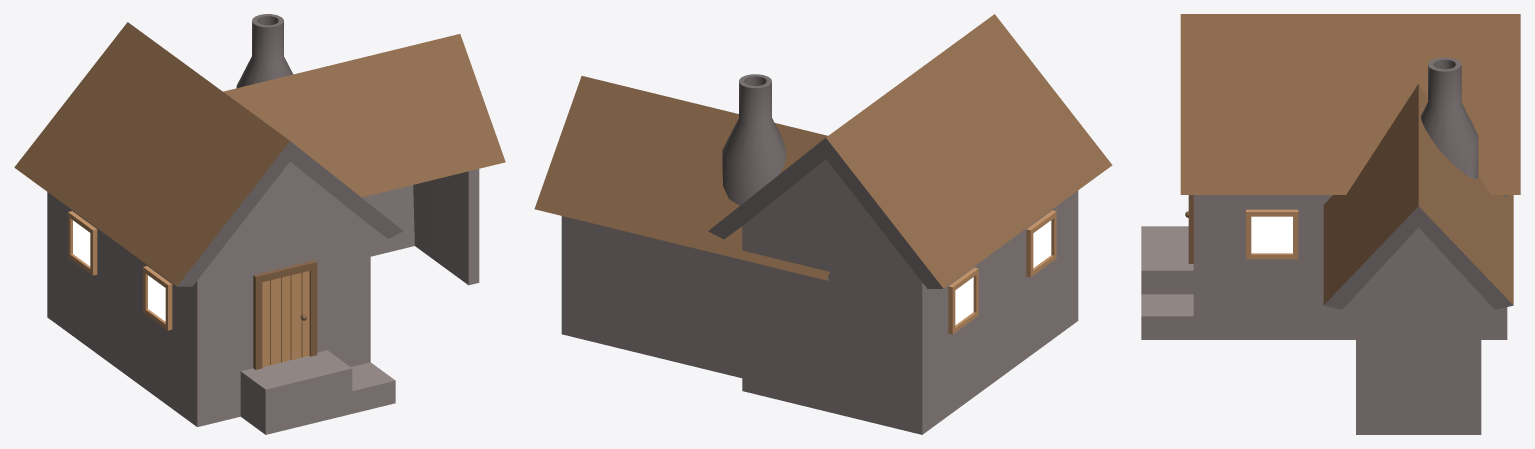
The model's file is SM_Blacksmith_01.fbx.
The picture shows the model from 3 angles, left to right: view 1: azimuth 30°, elevation 25°; view 2: azimuth 150°, elevation 25°; view 3: azimuth 270°, elevation 25°; orthographic projection. The views are drawn at different scales.
Parts seen in each view (by area): view 1: SM_Blacksmith_01, DoorFlat_01.003, Cylinder, WindowSmall_01.009, WindowSmall_01.010; view 2: SM_Blacksmith_01, Cylinder, WindowSmall_01.009, WindowSmall_01.010; view 3: SM_Blacksmith_01, Cylinder, WindowSmall_01.008, DoorFlat_01.003.
Boxes of the visible parts, bbox=[...] form: SM_Blacksmith_01: bbox=[14, 22, 505, 434]; DoorFlat_01.003: bbox=[253, 260, 317, 369]; Cylinder: bbox=[236, 14, 293, 88]; WindowSmall_01.009: bbox=[143, 266, 172, 330]; WindowSmall_01.010: bbox=[68, 211, 97, 275]; SM_Blacksmith_01: bbox=[534, 14, 1112, 434]; Cylinder: bbox=[722, 74, 786, 205]; WindowSmall_01.009: bbox=[1026, 210, 1056, 277]; WindowSmall_01.010: bbox=[948, 267, 978, 334]; SM_Blacksmith_01: bbox=[1141, 14, 1520, 434]; Cylinder: bbox=[1420, 57, 1478, 179]; WindowSmall_01.008: bbox=[1246, 209, 1298, 259]; DoorFlat_01.003: bbox=[1185, 195, 1193, 263].
Size of the model in its own units: 917 by 600 by 725.
